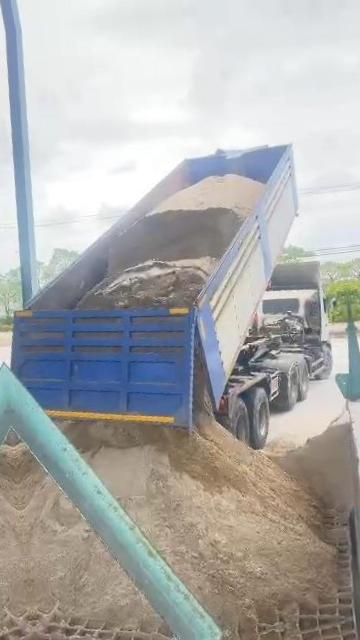sand: (64, 417, 335, 631), (11, 428, 158, 628), (78, 175, 264, 308), (253, 421, 356, 509)
